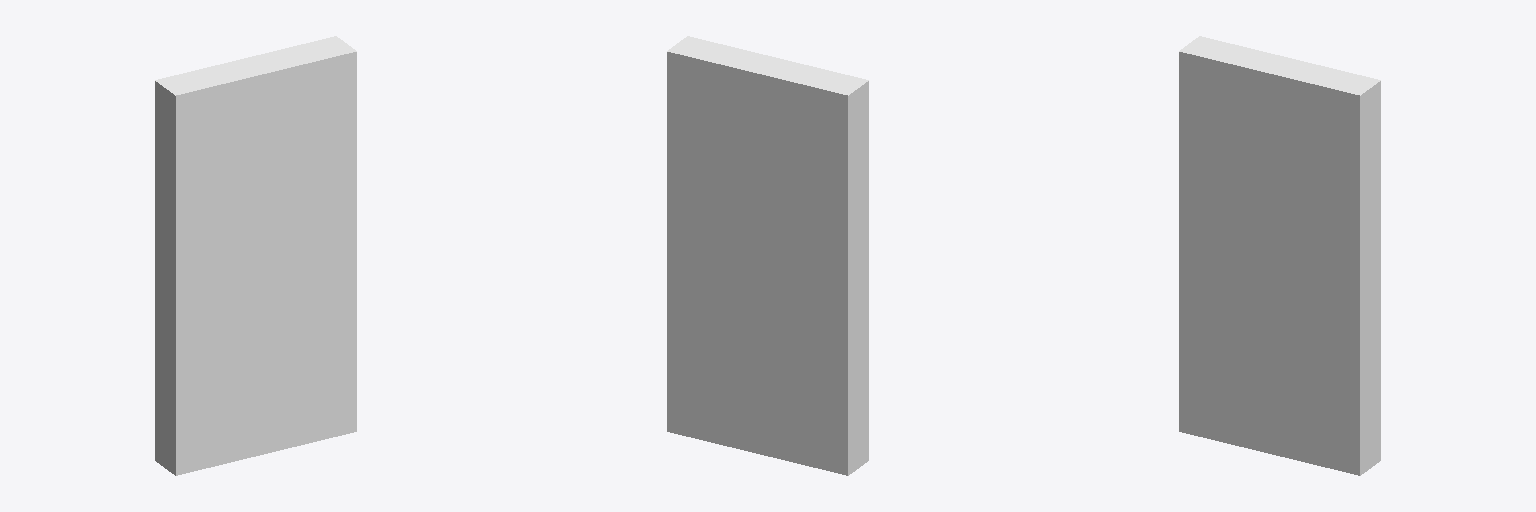
The model's file is Volt-0-Vhod_lift_1lvl.obj.
3 renders of one model, left to right at view 1: azimuth 30°, elevation 25°; view 2: azimuth 150°, elevation 25°; view 3: azimuth 330°, elevation 25°, orthographic.
Visible parts, largest first — view 1: Vhod_lift_1lvl; view 2: Vhod_lift_1lvl; view 3: Vhod_lift_1lvl.
Part boxes in pixels (left/top/right/bottom): Vhod_lift_1lvl: left=155, top=36, right=356, bottom=475; Vhod_lift_1lvl: left=667, top=36, right=868, bottom=475; Vhod_lift_1lvl: left=1179, top=36, right=1380, bottom=475.
Size of the model in its own units: 1 by 2 by 0.2.